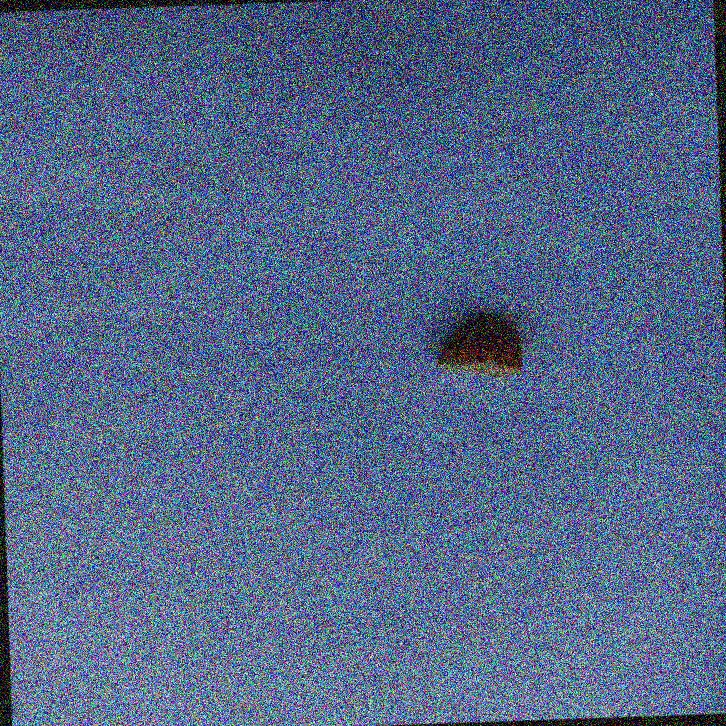grade4: (426, 310, 532, 384)
